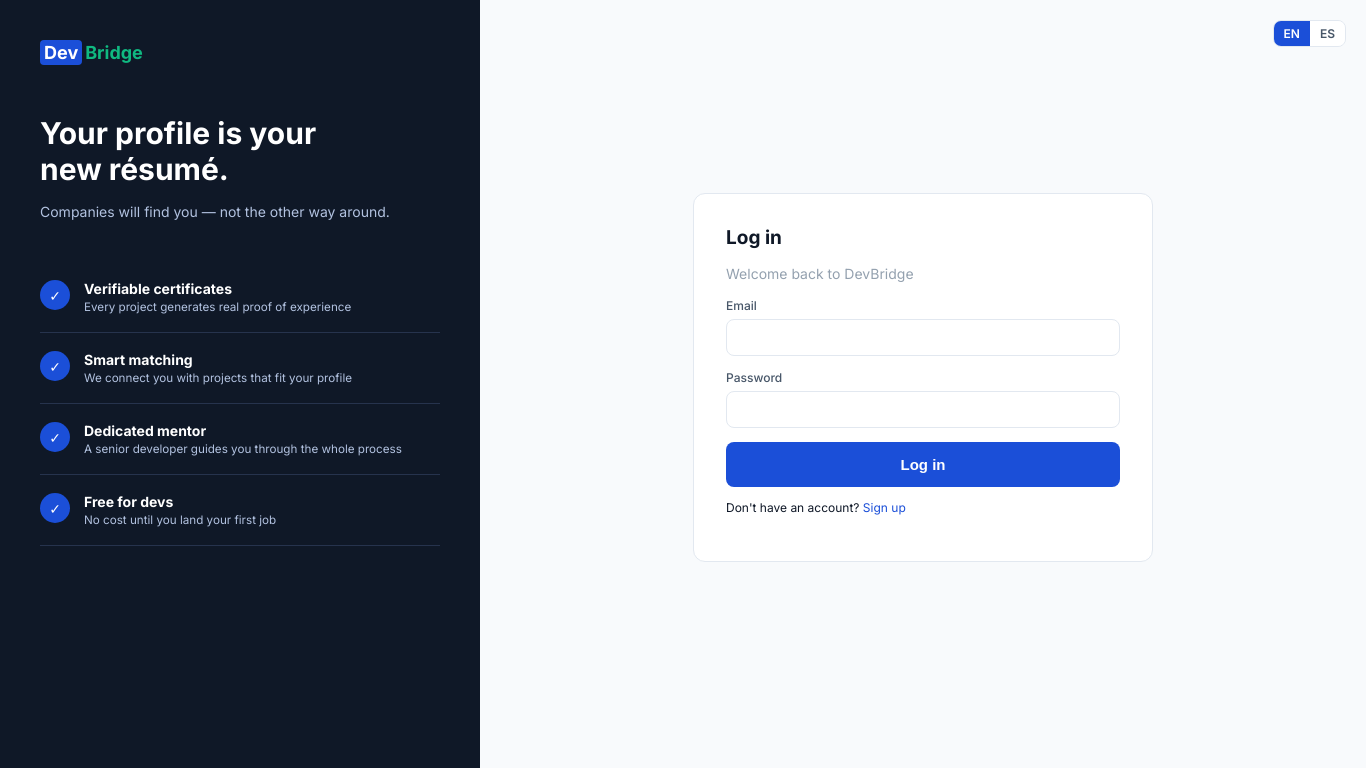
it: Login › shows the error and stays on the page with wrong credentials
In the field labelled "Email": x=923, y=337 [726, 318, 1120, 356], type "nico@demo.com"
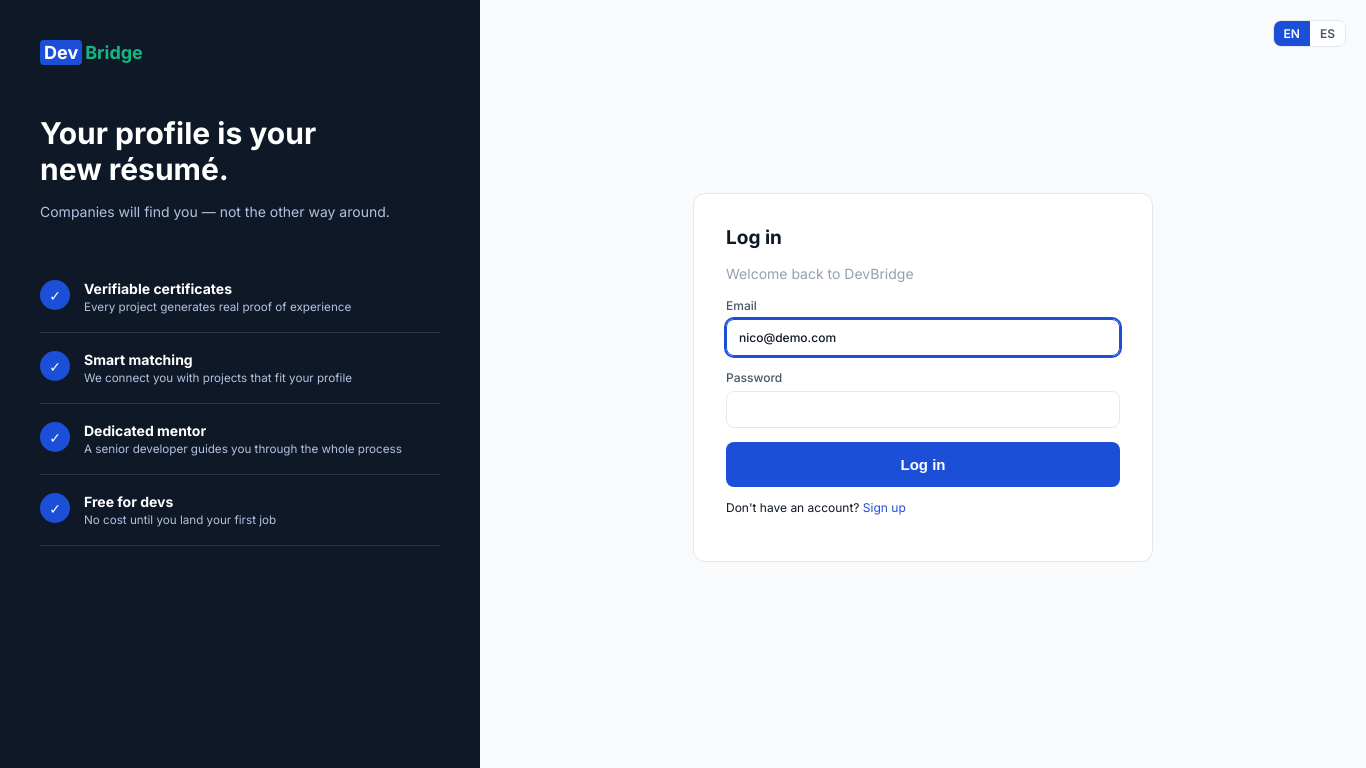
In the password field labelled "Password": x=923, y=409 [726, 390, 1120, 428], type "devbridge123"
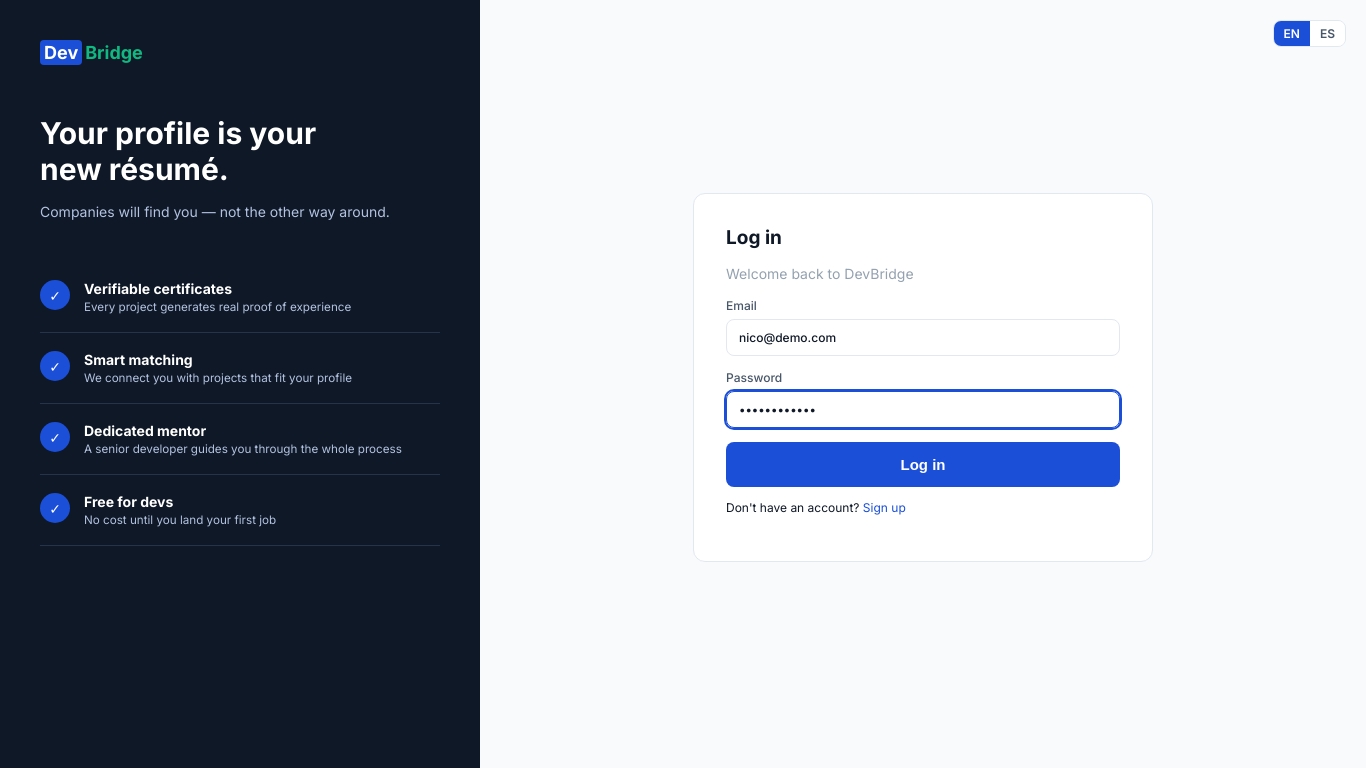
Click the button "Log in": x=923, y=464 [726, 442, 1120, 486]
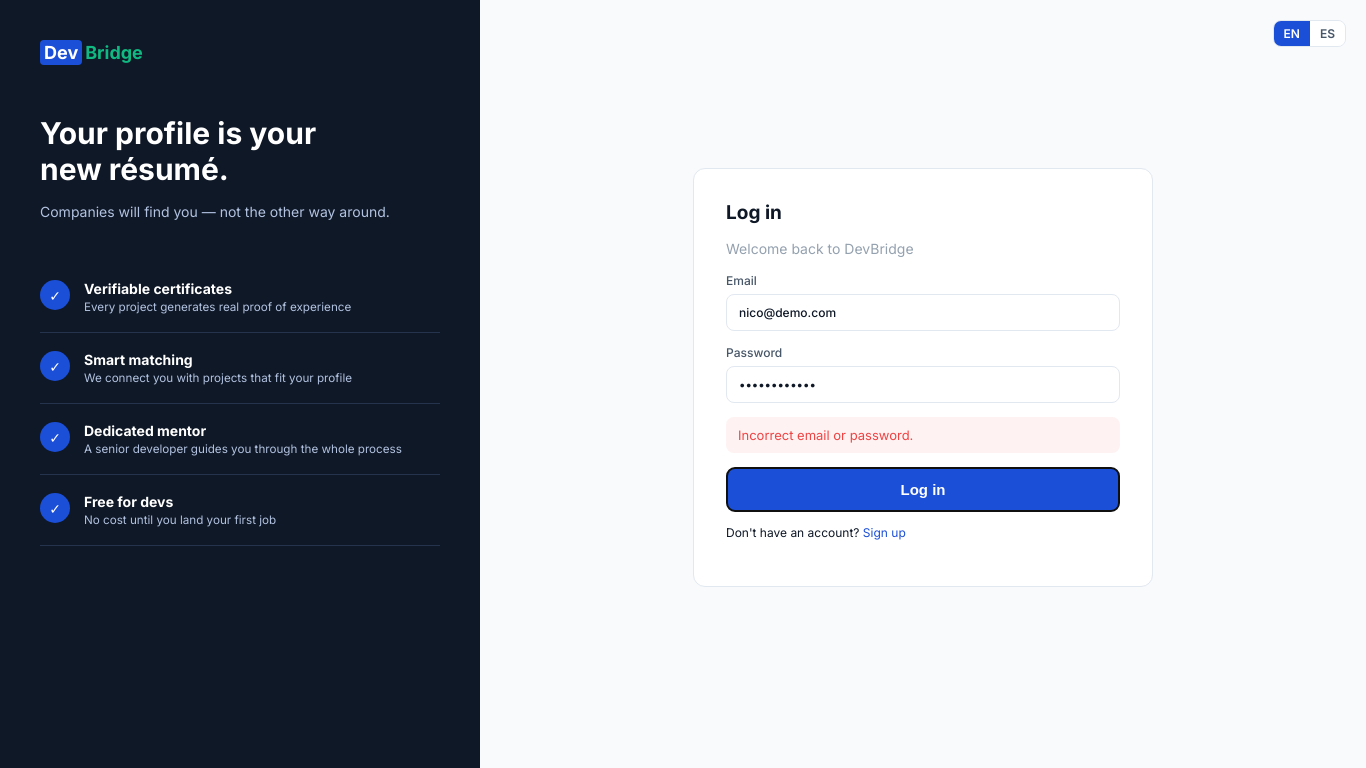
Expected: the text "Incorrect email or password." is shown, [726, 416, 1120, 452]
